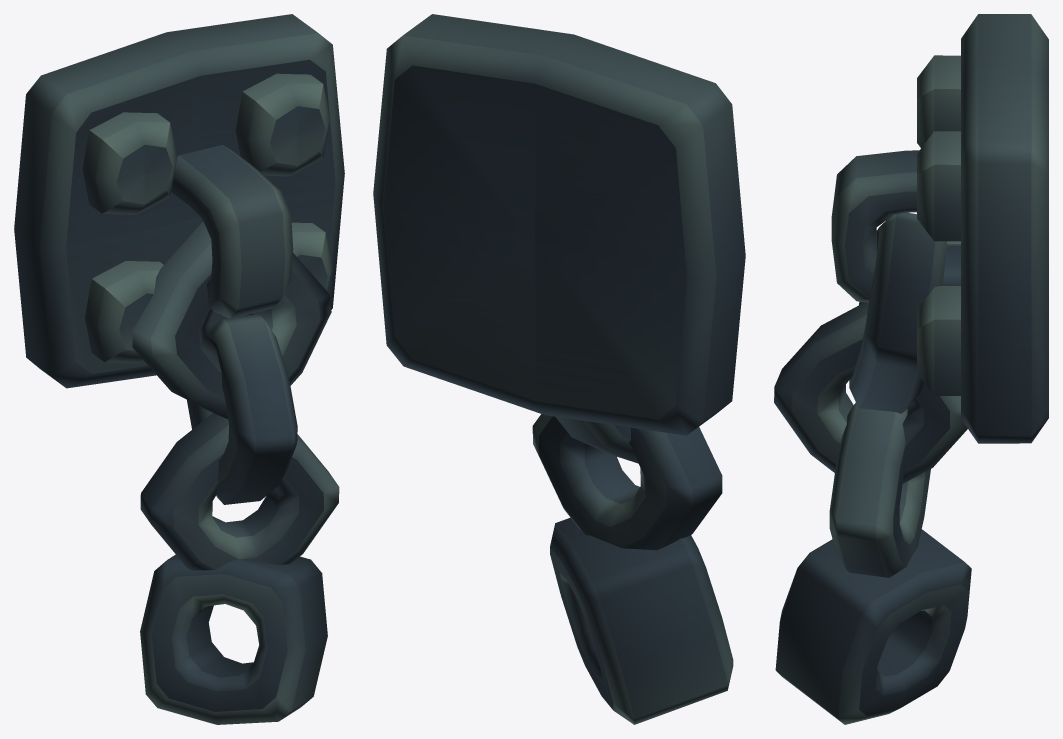
File: wall_shackles_1.fbx
The picture shows the model from 3 angles, left to right: view 1: azimuth 30°, elevation 25°; view 2: azimuth 150°, elevation 25°; view 3: azimuth 270°, elevation 25°; orthographic projection. The views are drawn at different scales.
Parts seen in each view (by area): view 1: wall_shackles_1; view 2: wall_shackles_1; view 3: wall_shackles_1.
Boxes of the visible parts, x1,y1,x2,y2 form: wall_shackles_1: [14, 14, 344, 724]; wall_shackles_1: [373, 14, 745, 724]; wall_shackles_1: [774, 14, 1048, 724].
Bounding box in the file's own units: 87.44 × 172 × 66.27.
